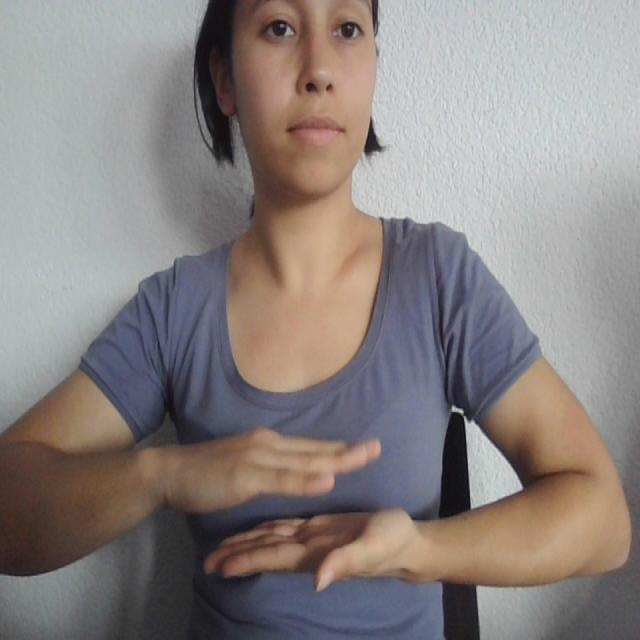Arkadas: (111, 427, 526, 602)
